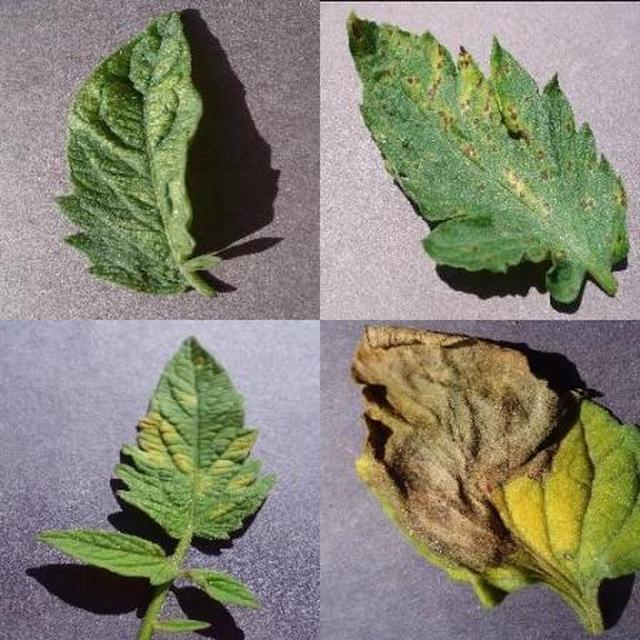Spider Mites Leaf: (149, 80, 640, 640)
